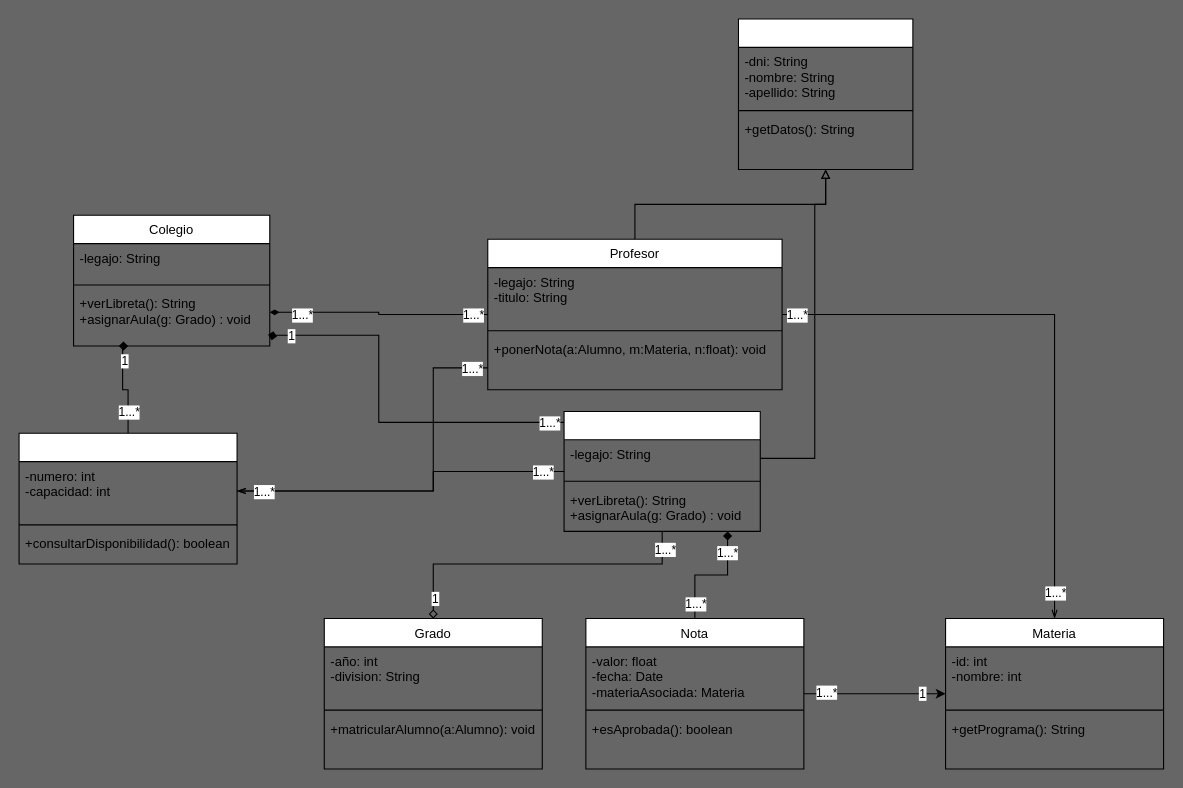
This 1183x788 diagram has some shape labels left out. The box of each missing label's shape, as (x1, y1, x2, y2) in pixels:
Alumno: (563, 410, 760, 531)
Aula: (18, 432, 237, 564)
Persona: (737, 18, 913, 169)
